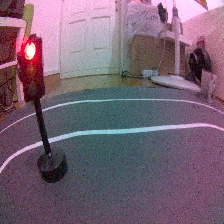red: (15, 33, 69, 184)
